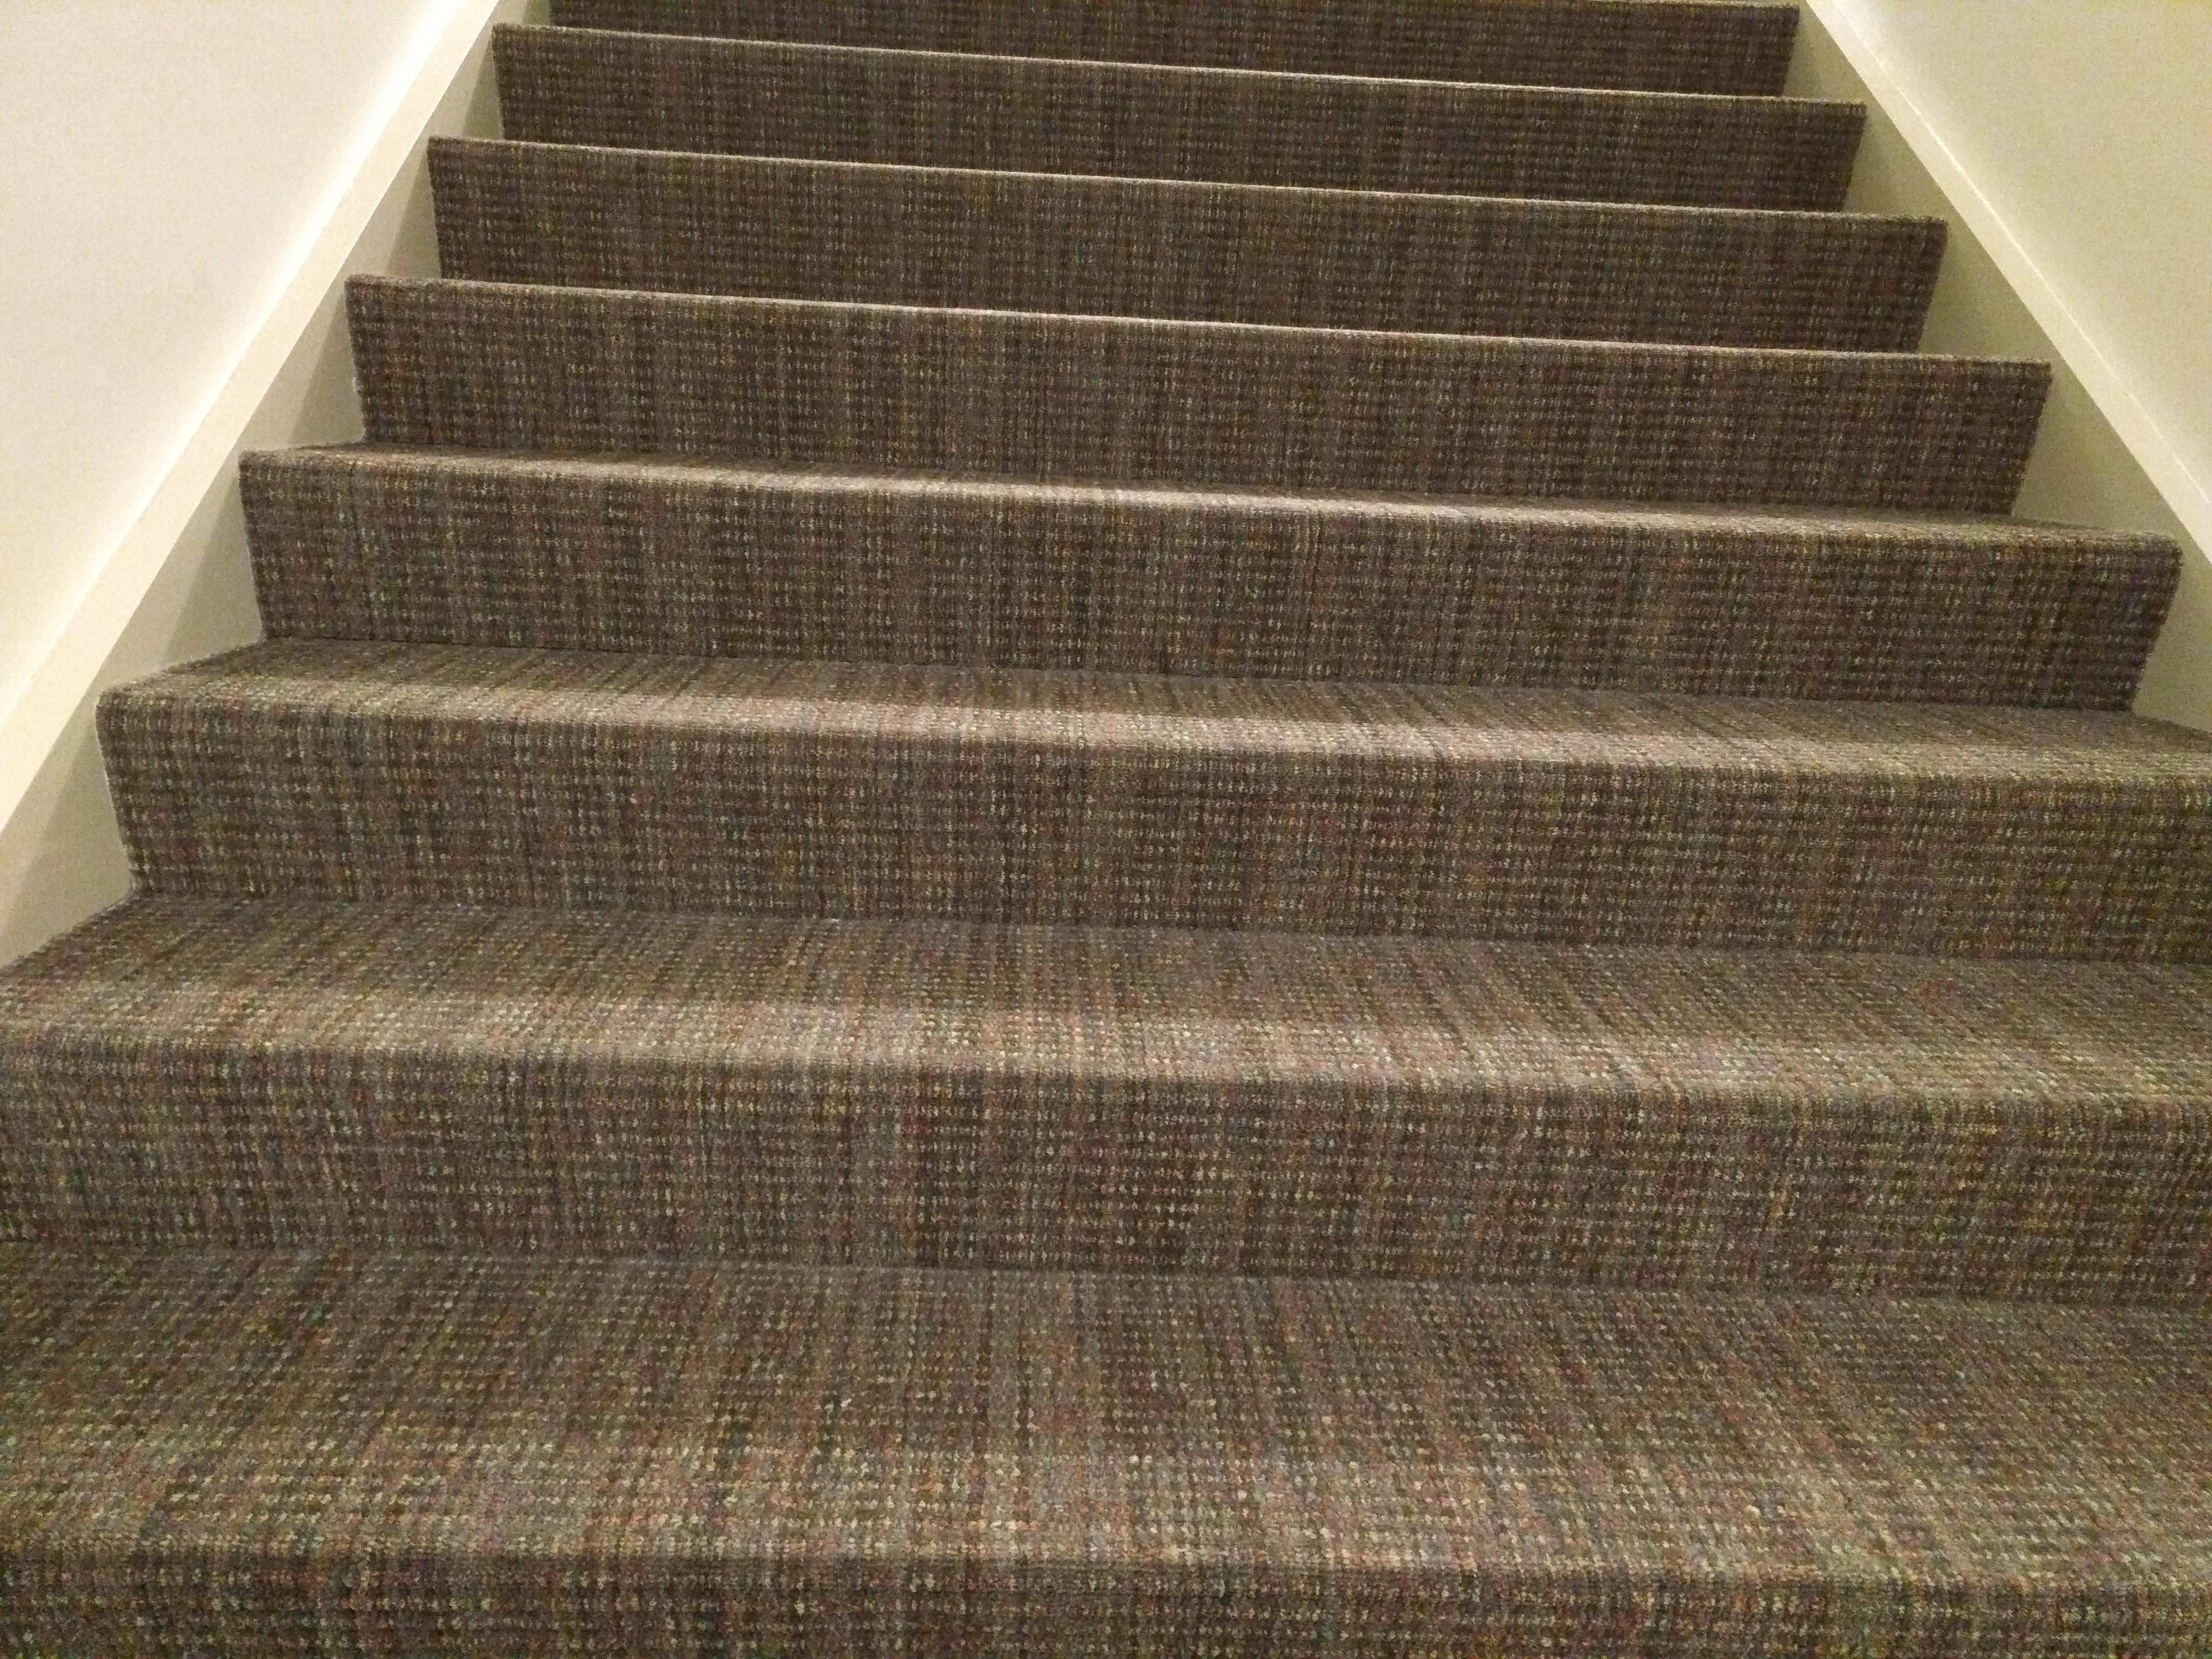stairs_up: (19, 40, 2212, 1453)
